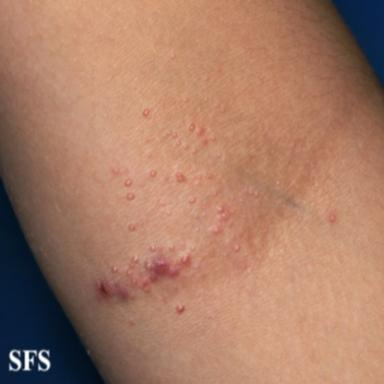Molluscum-Contagiosum: (145, 254, 179, 281), (210, 204, 229, 235), (127, 255, 139, 276), (181, 253, 191, 265), (175, 172, 185, 182), (196, 127, 205, 136), (175, 305, 185, 313), (149, 170, 157, 178), (127, 193, 134, 201), (188, 123, 195, 131), (188, 196, 196, 203), (128, 224, 136, 231), (125, 179, 132, 186), (143, 109, 149, 117), (150, 244, 156, 252), (169, 244, 175, 252), (234, 244, 240, 252), (131, 277, 137, 285), (329, 215, 335, 222), (112, 266, 118, 273), (194, 179, 200, 186), (211, 112, 217, 118), (192, 148, 197, 154), (146, 152, 151, 158), (183, 96, 188, 102), (221, 107, 226, 113), (211, 136, 216, 141), (167, 130, 171, 136), (173, 133, 177, 138), (217, 153, 221, 158), (184, 145, 188, 150), (215, 103, 219, 108), (204, 97, 208, 101)
